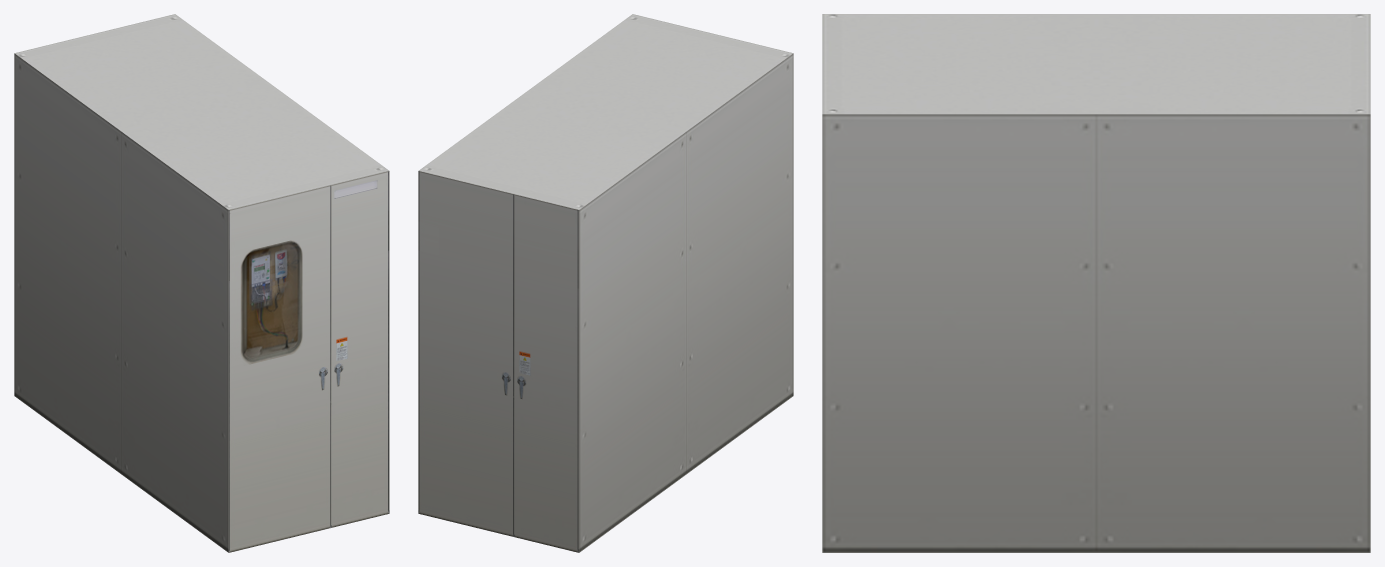
The model's file is SHV_MOF_02.gltf.
3 views of the same model, side by side, from view 1: azimuth 30°, elevation 25°; view 2: azimuth 150°, elevation 25°; view 3: azimuth 270°, elevation 25° (orthographic). The views are drawn at different scales.
Visible parts, largest first — view 1: SHV-2-1; view 2: SHV-2-1; view 3: SHV-2-1.
Boxes of the visible parts, <box> form: SHV-2-1: <box>14,14,389,552</box>; SHV-2-1: <box>418,14,793,552</box>; SHV-2-1: <box>822,14,1370,552</box>.
Size of the model in its own units: 1.3 by 2.65 by 3.
Materials: 1 (1 with a texture image).
